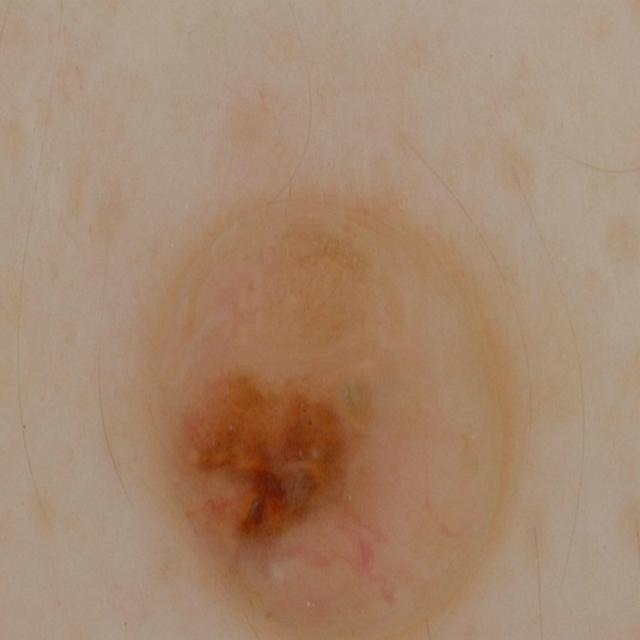Melanoma: (127, 320, 441, 629)
